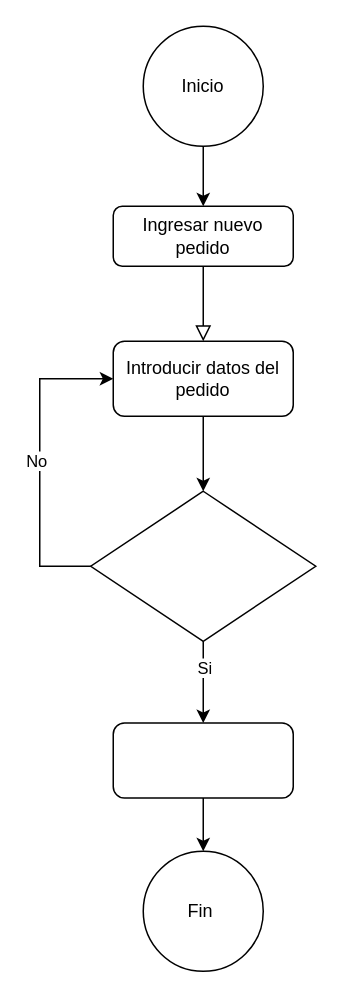
This 342x998 diagram has some shape labels left out. The centre of each missing label's shape, as x and y in pixels:
Imprimir recibo: [202,760]
¿Todos los campos estan completos?: [202,565]
